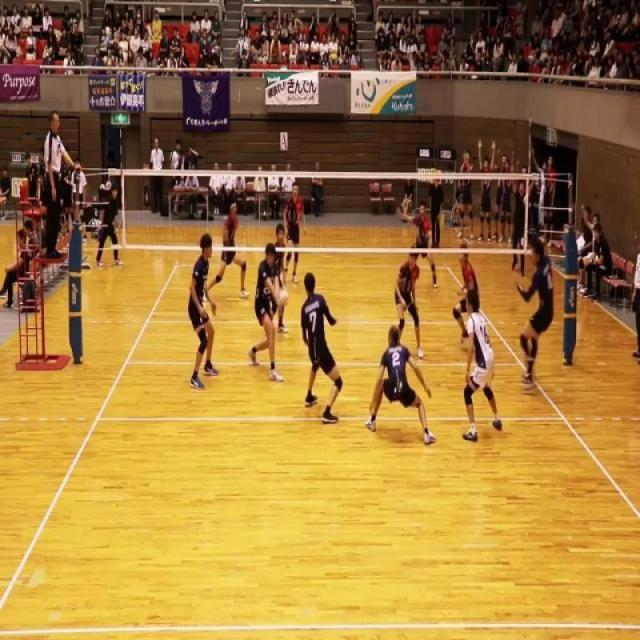volleyball: (278, 290, 289, 306)
